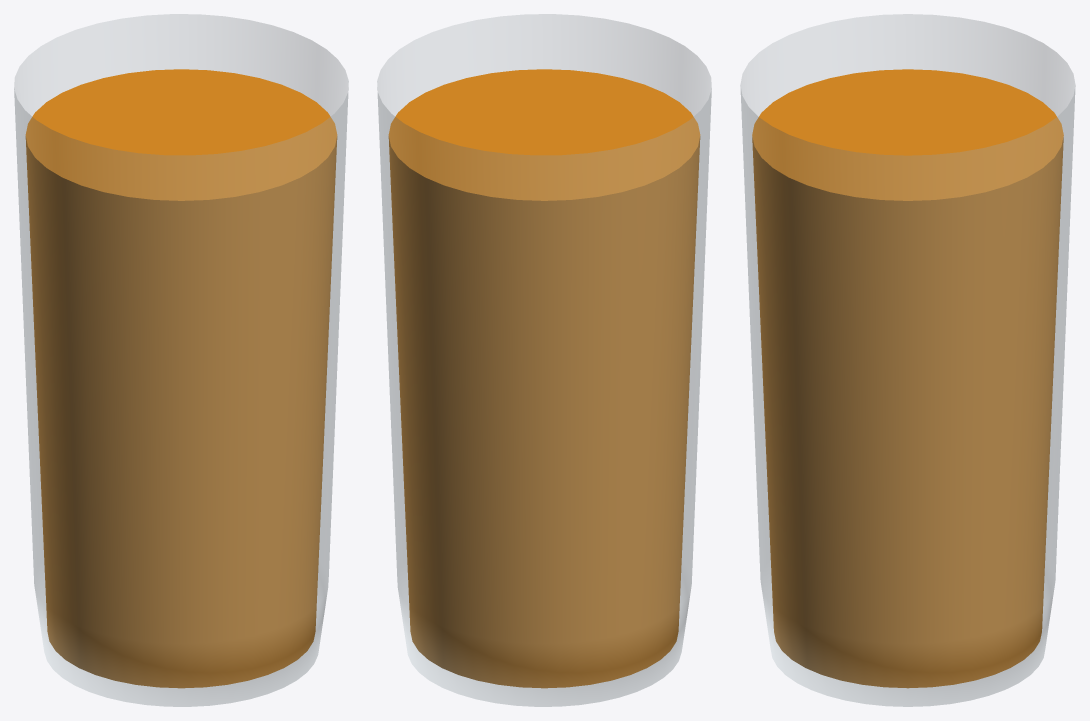
The model's file is bebida-3-card.glb.
3 renders of one model, left to right at view 1: azimuth 30°, elevation 25°; view 2: azimuth 150°, elevation 25°; view 3: azimuth 270°, elevation 25°, orthographic.
Bounding box in the file's own units: 0.07 × 0.13 × 0.07.
